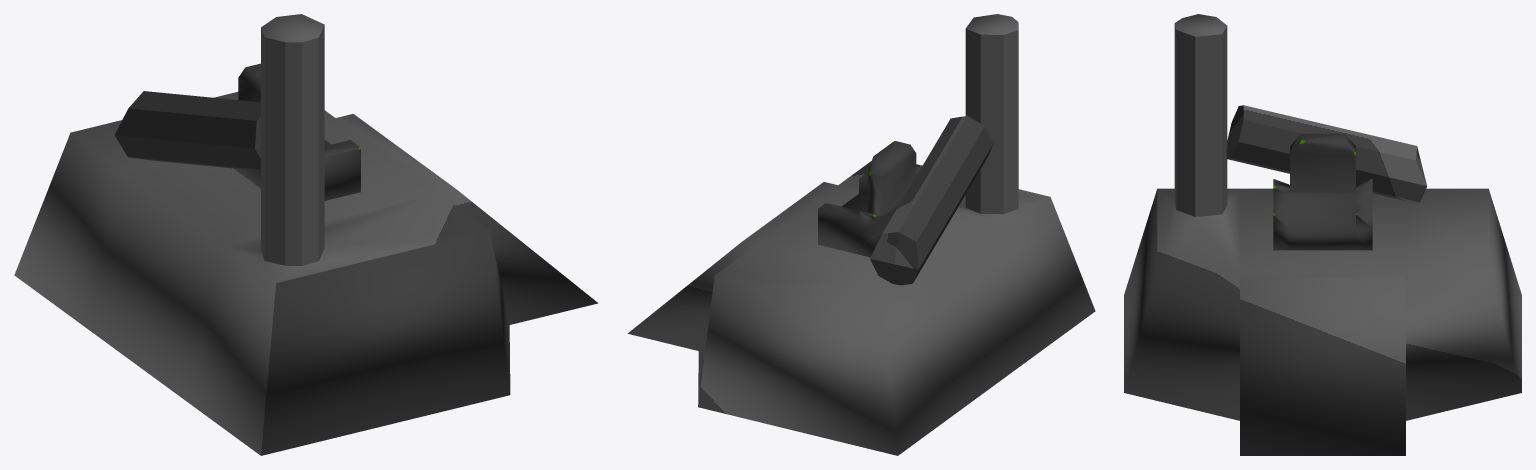
Rendered from Throne.glb.
The picture shows the model from 3 angles, left to right: view 1: azimuth 30°, elevation 25°; view 2: azimuth 150°, elevation 25°; view 3: azimuth 270°, elevation 25°; orthographic projection. The views are drawn at different scales.
Parts seen in each view (by area): view 1: ThroneFund, Throne; view 2: ThroneFund, Throne; view 3: ThroneFund, Throne.
Boxes of the visible parts, <box> form: ThroneFund: <box>14,14,598,455</box>; Throne: <box>234,63,360,200</box>; ThroneFund: <box>628,14,1095,455</box>; Throne: <box>818,141,916,257</box>; ThroneFund: <box>1124,14,1521,455</box>; Throne: <box>1273,133,1372,250</box>.
Bounding box in the file's own units: 11.5 × 10 × 12.
Materials: 2 (2 with a texture image).
